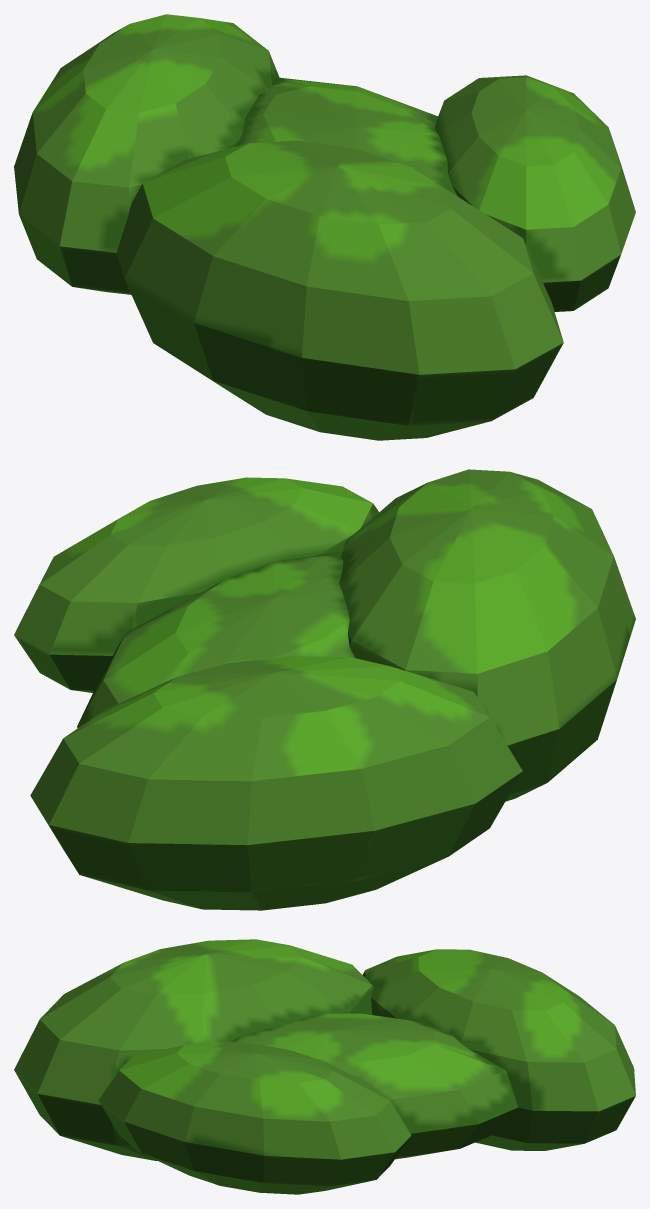
Rendered from bush.fbx.
3 renders of one model, top to bottom at view 1: azimuth 30°, elevation 25°; view 2: azimuth 150°, elevation 25°; view 3: azimuth 270°, elevation 25°, orthographic. The views are drawn at different scales.
Visible parts, largest first — view 1: sphere_1, sphere_3, sphere_2, sphere; view 2: sphere_3, sphere_1, sphere_2, sphere; view 3: sphere_2, sphere_1, sphere_3, sphere.
Boxes of the visible parts, x1,y1,x2,y2 form: sphere_1: [116, 140, 563, 440]; sphere_3: [14, 14, 279, 294]; sphere_2: [434, 75, 635, 311]; sphere: [235, 77, 457, 196]; sphere_3: [30, 656, 522, 910]; sphere_1: [339, 469, 635, 801]; sphere_2: [14, 477, 379, 692]; sphere: [77, 551, 355, 727]; sphere_2: [98, 1041, 411, 1194]; sphere_1: [14, 939, 373, 1160]; sphere_3: [362, 949, 635, 1150]; sphere: [231, 1013, 518, 1159].
Bounding box in the file's own units: 337 × 162 × 478.
1 material, 1 textured.
